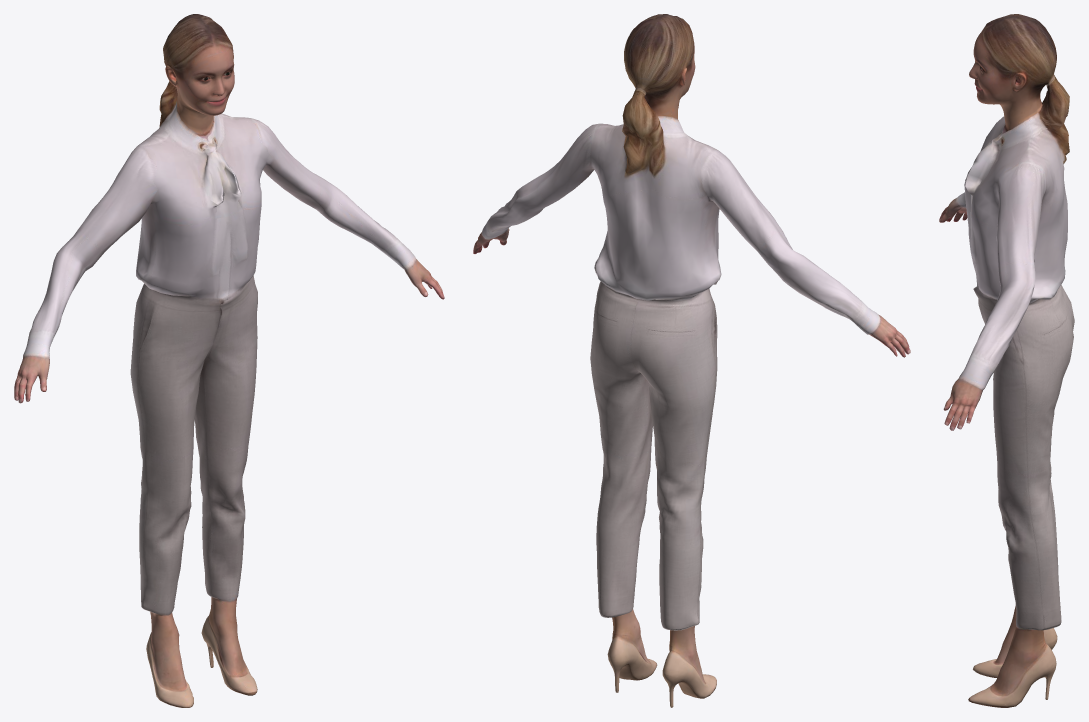
Rendered from insan_claudia.glb.
3 views of the same model, side by side, from view 1: azimuth 30°, elevation 25°; view 2: azimuth 150°, elevation 25°; view 3: azimuth 270°, elevation 25° (orthographic).
Visible parts, largest first — view 1: Object_6; view 2: Object_6; view 3: Object_6.
Part boxes in pixels (bbox=[...]): Object_6: bbox=[14, 14, 444, 707]; Object_6: bbox=[473, 14, 910, 707]; Object_6: bbox=[939, 14, 1074, 707].
Size of the model in its own units: 1.15 by 1.73 by 0.3156.
1 material, 1 textured.
